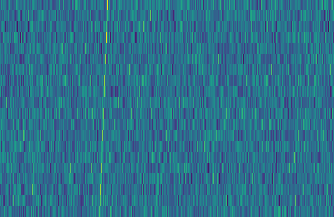signal: (93, 0, 110, 217)
